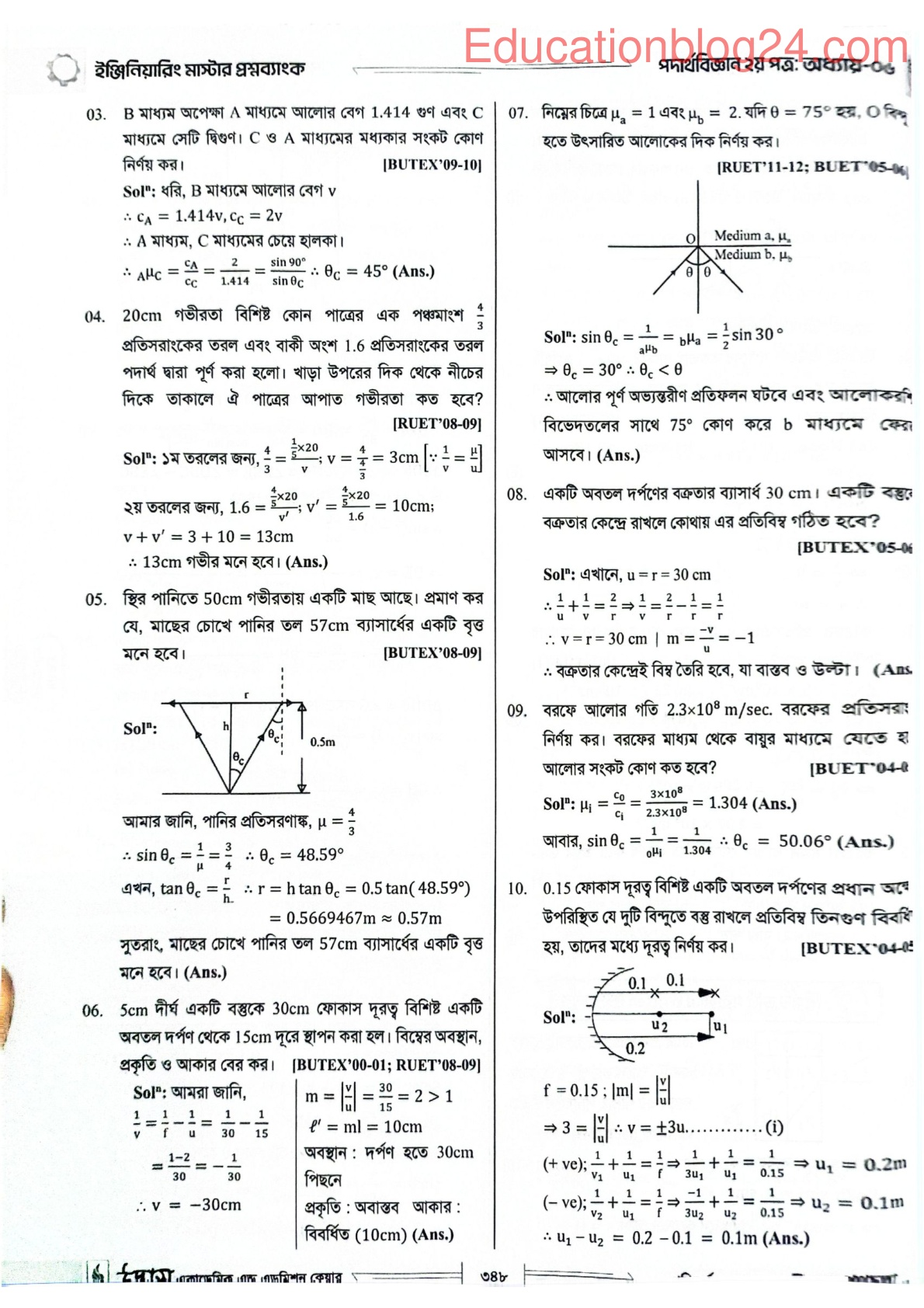question: (74, 302, 489, 435), (503, 687, 916, 790), (74, 588, 489, 682), (508, 872, 922, 962), (502, 98, 918, 186), (74, 994, 489, 1077), (79, 99, 492, 181), (502, 473, 918, 535)
